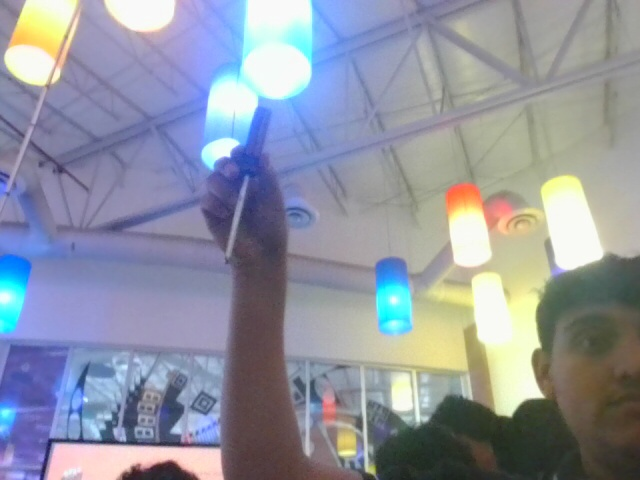destornillador: (221, 104, 272, 265)
